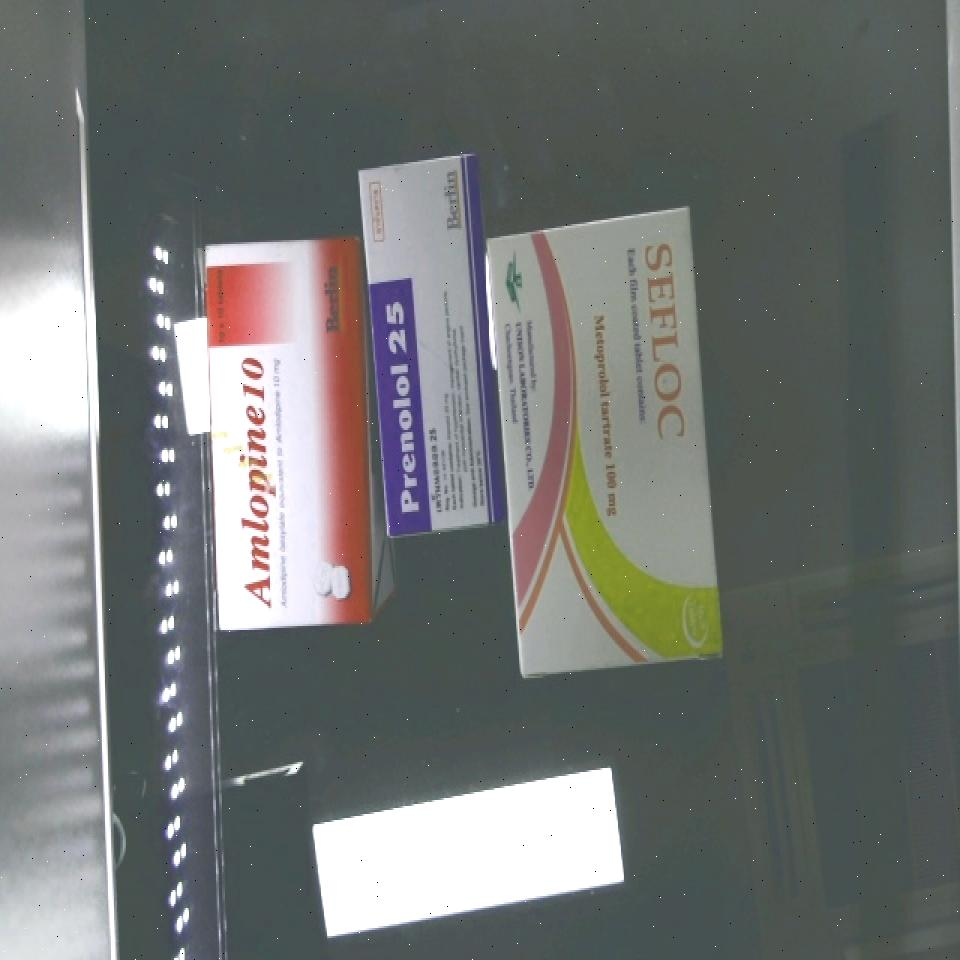medicine_box: (483, 205, 725, 675), (204, 239, 374, 625), (353, 154, 503, 540)
medicine_label_obb: (627, 215, 706, 465), (213, 346, 285, 620), (370, 278, 432, 523)
